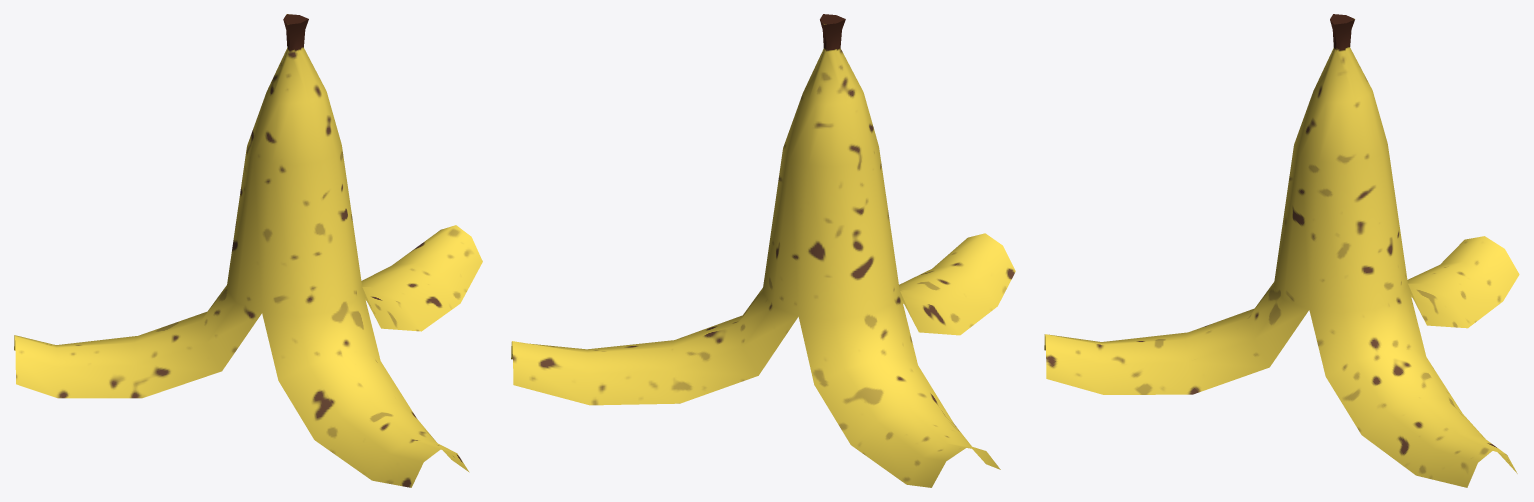
File: Mesh_Banana.fbx
3 renders of one model, left to right at view 1: azimuth 30°, elevation 25°; view 2: azimuth 150°, elevation 25°; view 3: azimuth 270°, elevation 25°, orthographic. The views are drawn at different scales.
Parts seen in each view (by area): view 1: Cylinder; view 2: Cylinder; view 3: Cylinder.
Part boxes in pixels (x1,y1,x2,y2): Cylinder: [14, 14, 482, 487]; Cylinder: [511, 14, 1015, 487]; Cylinder: [1044, 14, 1519, 487].
Size of the model in its own units: 342 by 249 by 299.
1 material, 1 textured.
